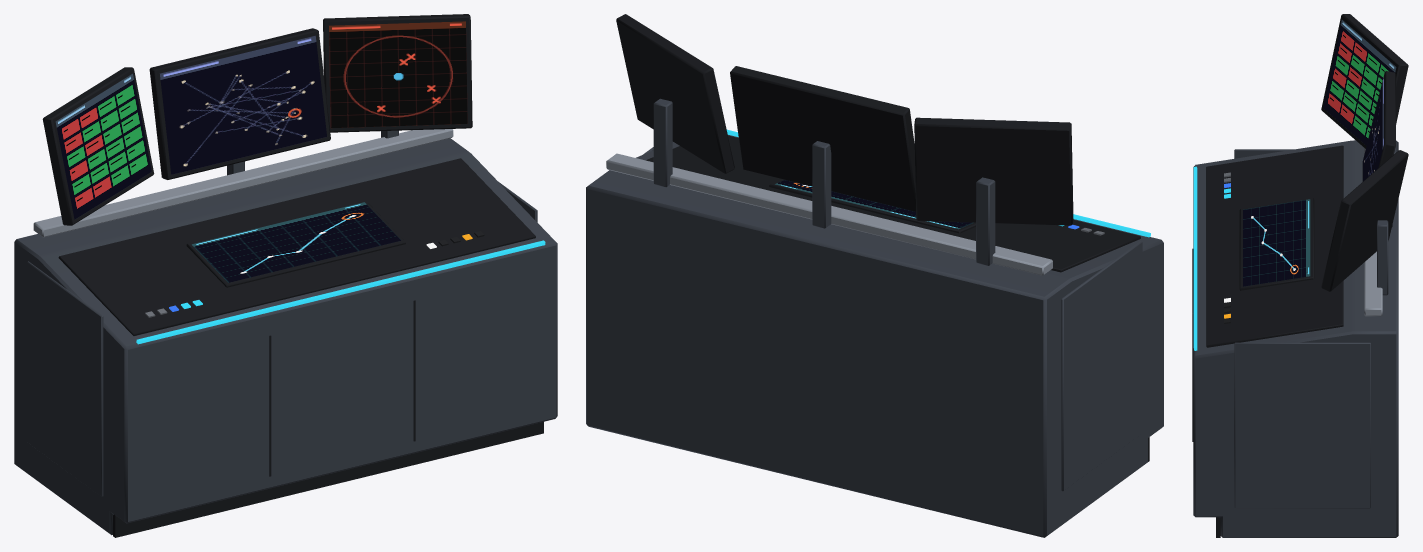
The model's file is console_sloped_triple_screen.glb.
3 renders of one model, left to right at view 1: azimuth 30°, elevation 25°; view 2: azimuth 150°, elevation 25°; view 3: azimuth 270°, elevation 25°, orthographic. The views are drawn at different scales.
Visible parts, largest first — view 1: console_sloped_triple_screen; view 2: console_sloped_triple_screen; view 3: console_sloped_triple_screen.
Part boxes in pixels (x1,y1,x2,y2): console_sloped_triple_screen: [14, 14, 557, 537]; console_sloped_triple_screen: [586, 14, 1163, 537]; console_sloped_triple_screen: [1192, 14, 1408, 537].
Size of the model in its own units: 2.02 by 1.62 by 0.9485.
Materials: 13 (4 with a texture image).
